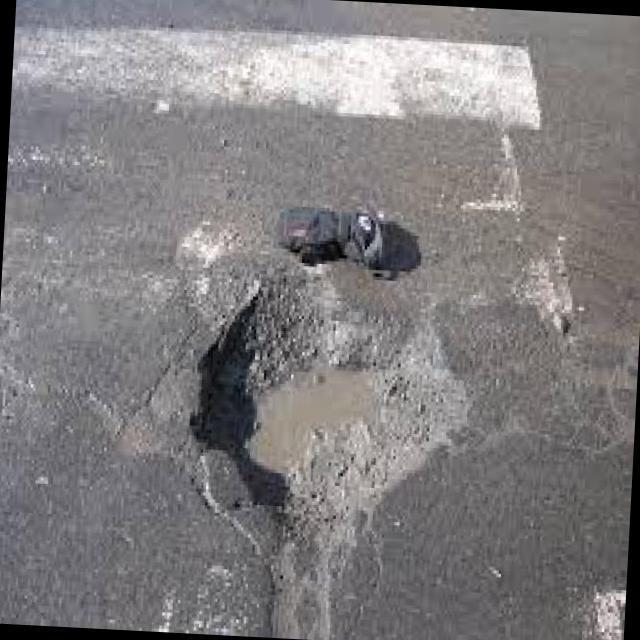-: (192, 294, 444, 534)
